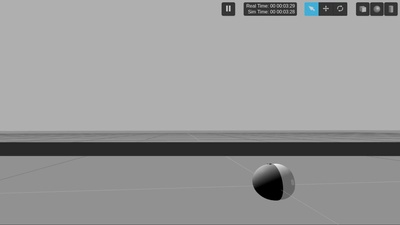mira_robot: (252, 162, 295, 201)
